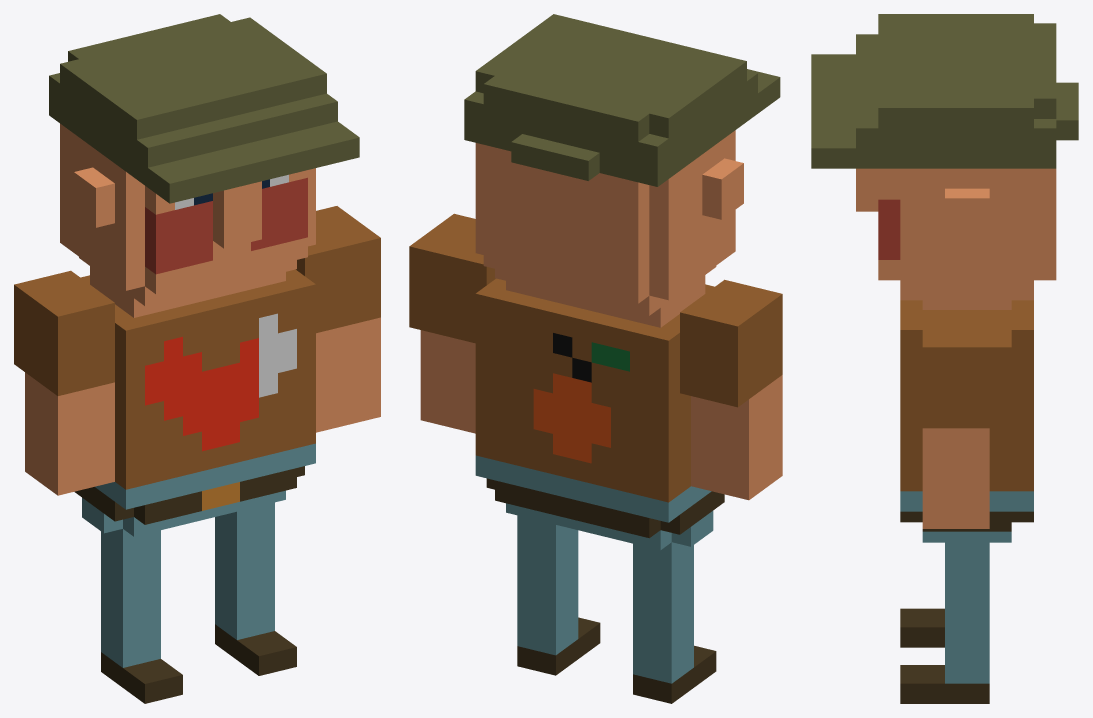
File: charater_1.glb
The picture shows the model from 3 angles, left to right: view 1: azimuth 30°, elevation 25°; view 2: azimuth 150°, elevation 25°; view 3: azimuth 270°, elevation 25°; orthographic projection.
Visible parts, largest first — view 1: Man1; view 2: Man1; view 3: Man1.
Part boxes in pixels (x1=…): Man1: x1=14, y1=14, x2=380, y2=703; Man1: x1=409, y1=14, x2=782, y2=703; Man1: x1=811, y1=14, x2=1078, y2=703.
Size of the model in its own units: 1.7 by 3 by 1.2.
Materials: 1 (1 with a texture image).
